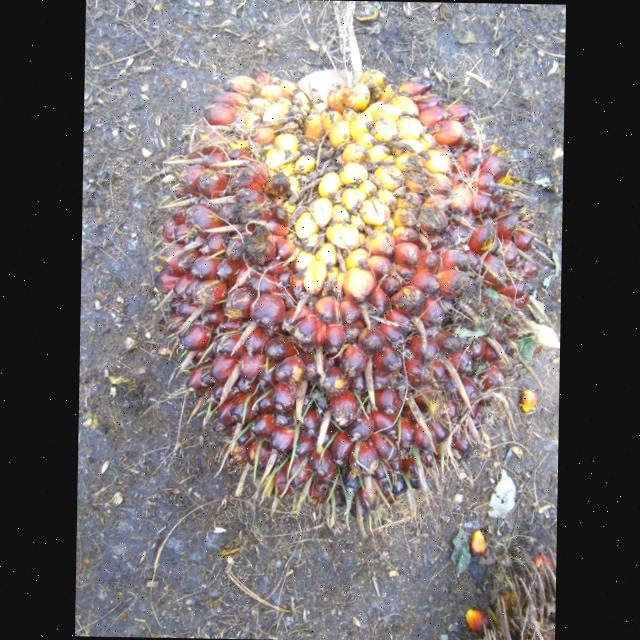Ripe: (158, 67, 544, 508)
